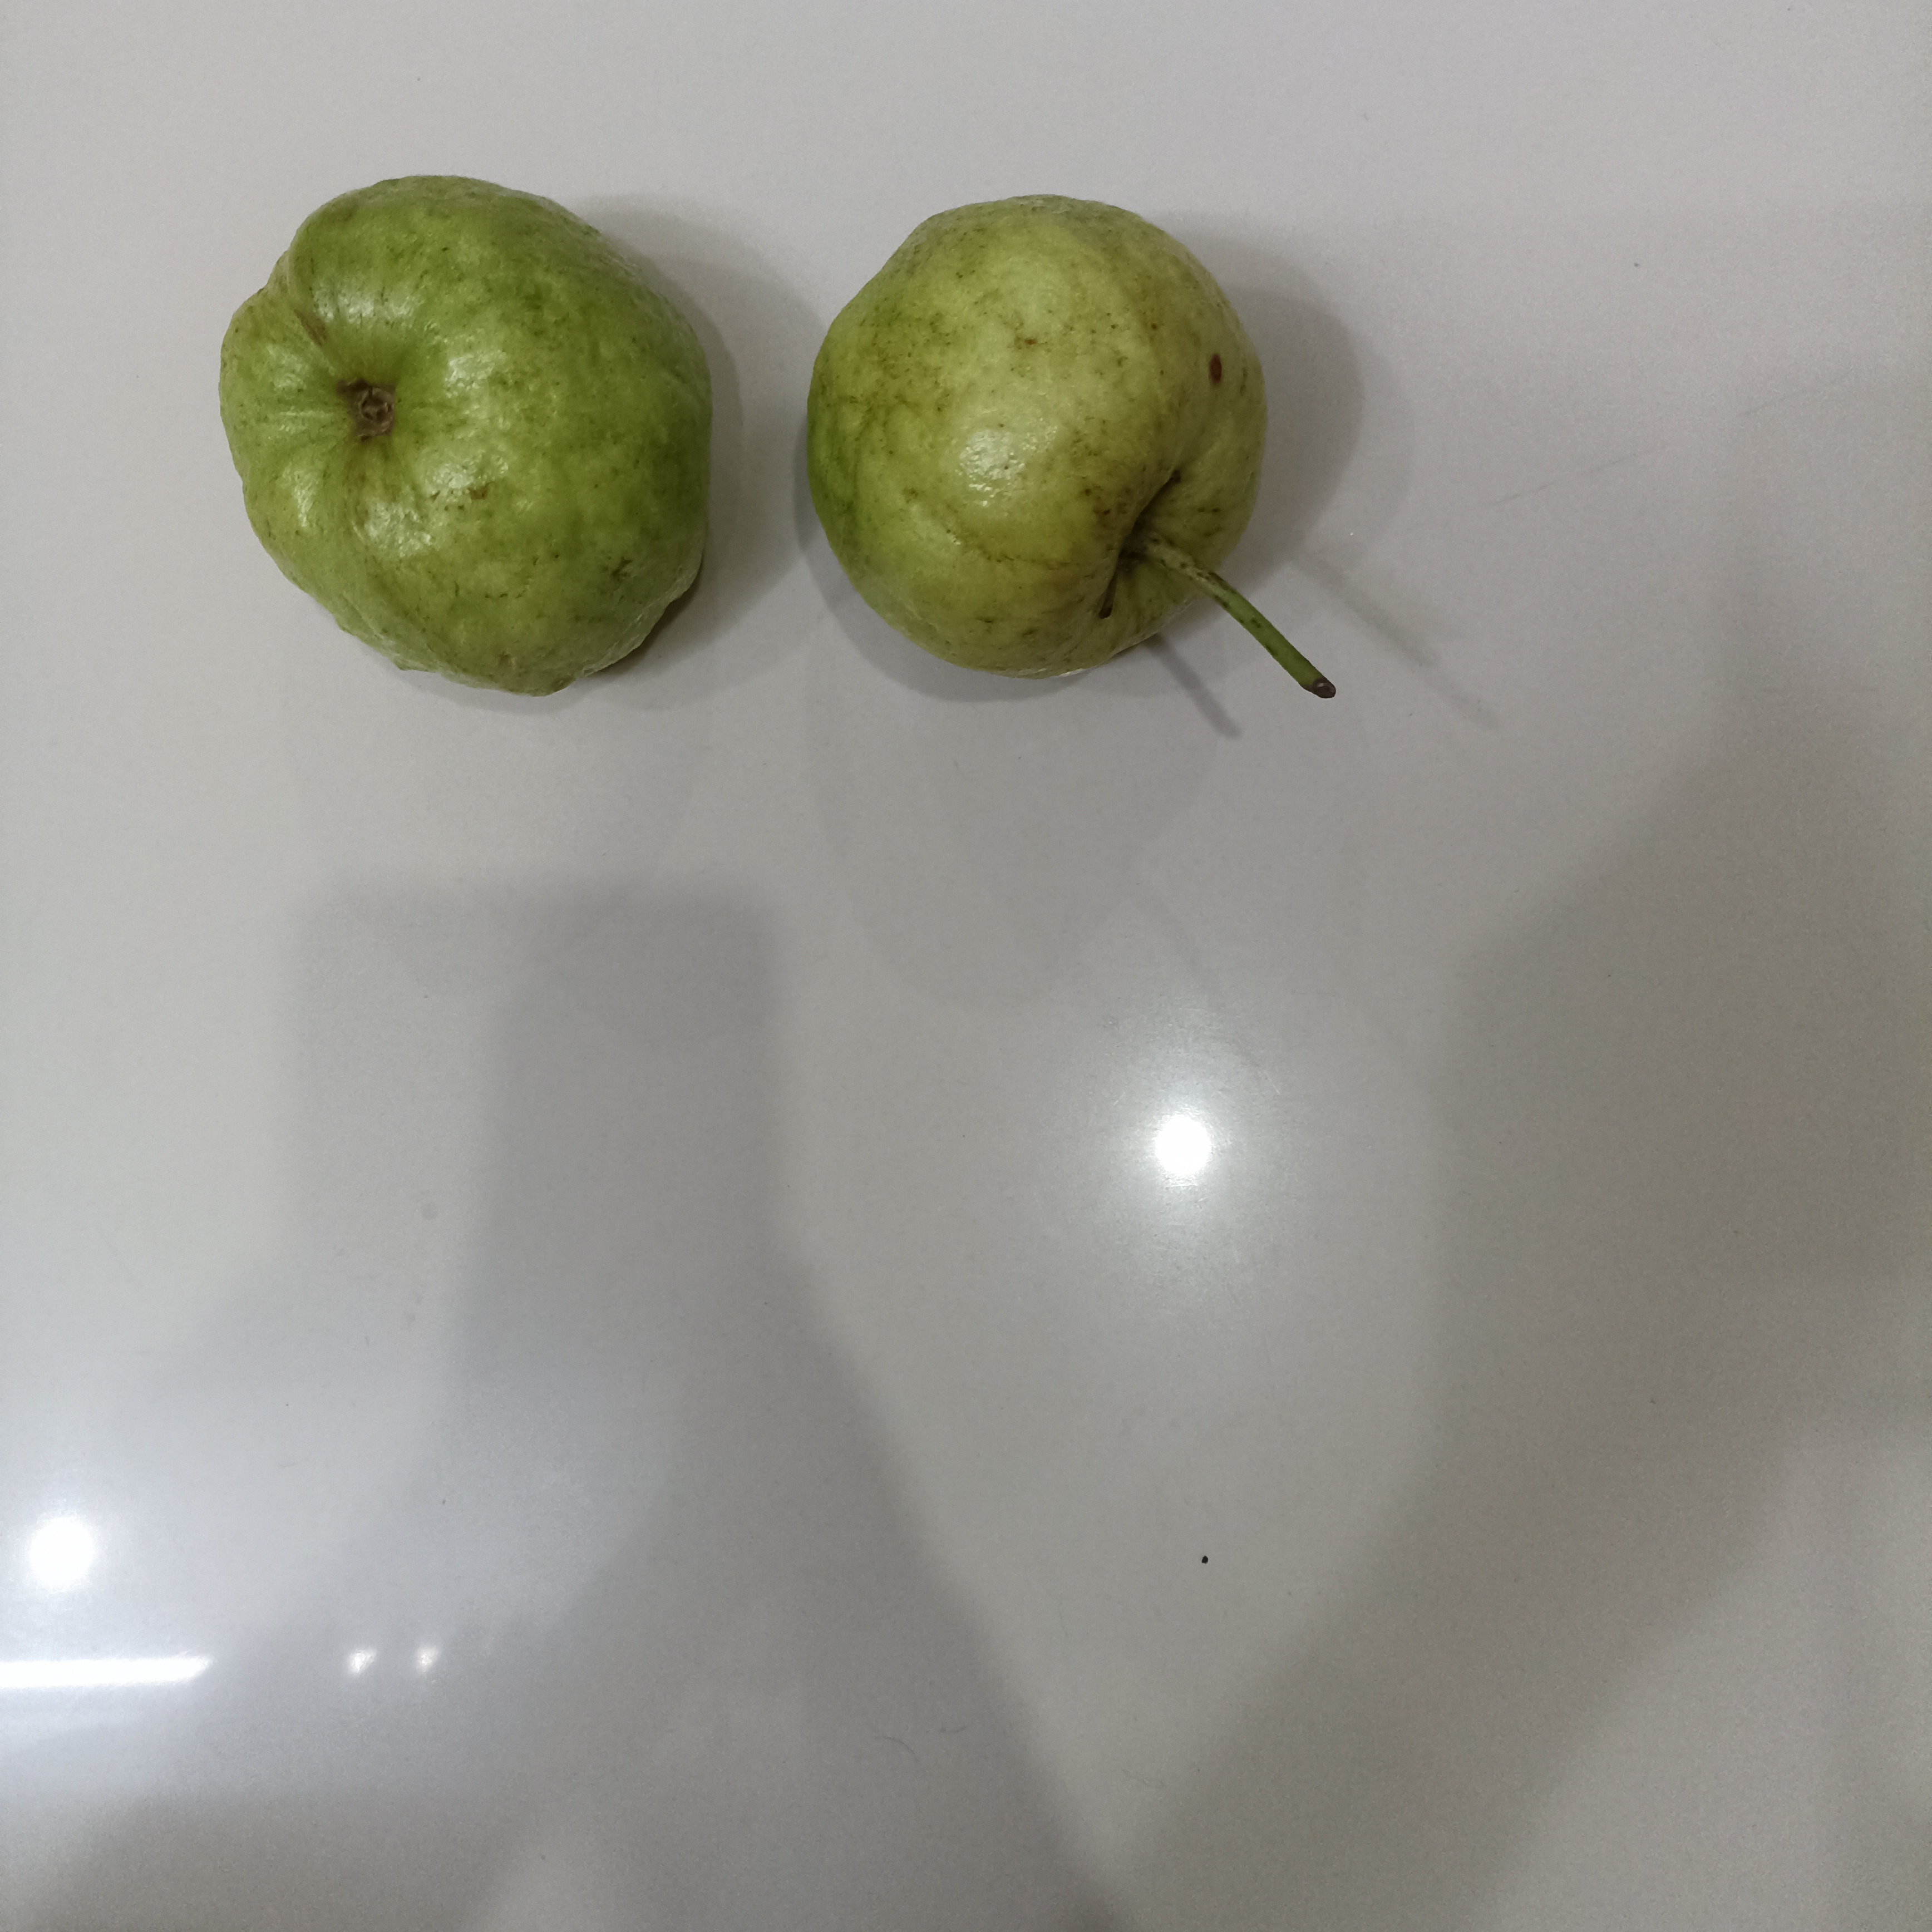Oi: (216, 172, 711, 695), (803, 191, 1267, 686)
